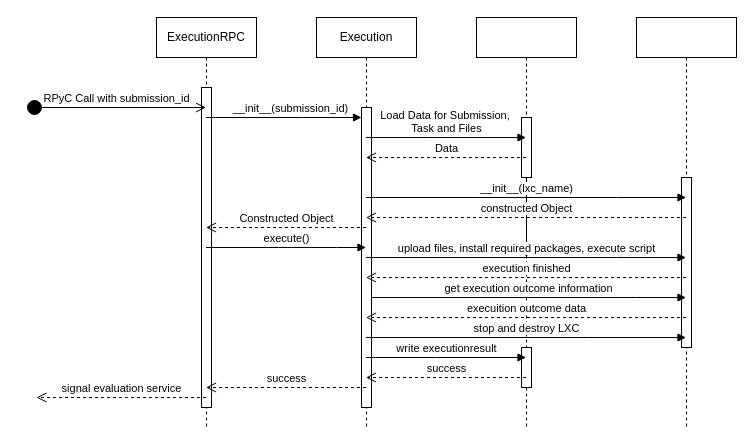
Image size: 754x445. Some labels were removed from this diagram. Here are the shapes that lost their labels. From the top down, the box of each, then its label:
(476, 16, 576, 428): Database
(636, 16, 736, 428): LXC
